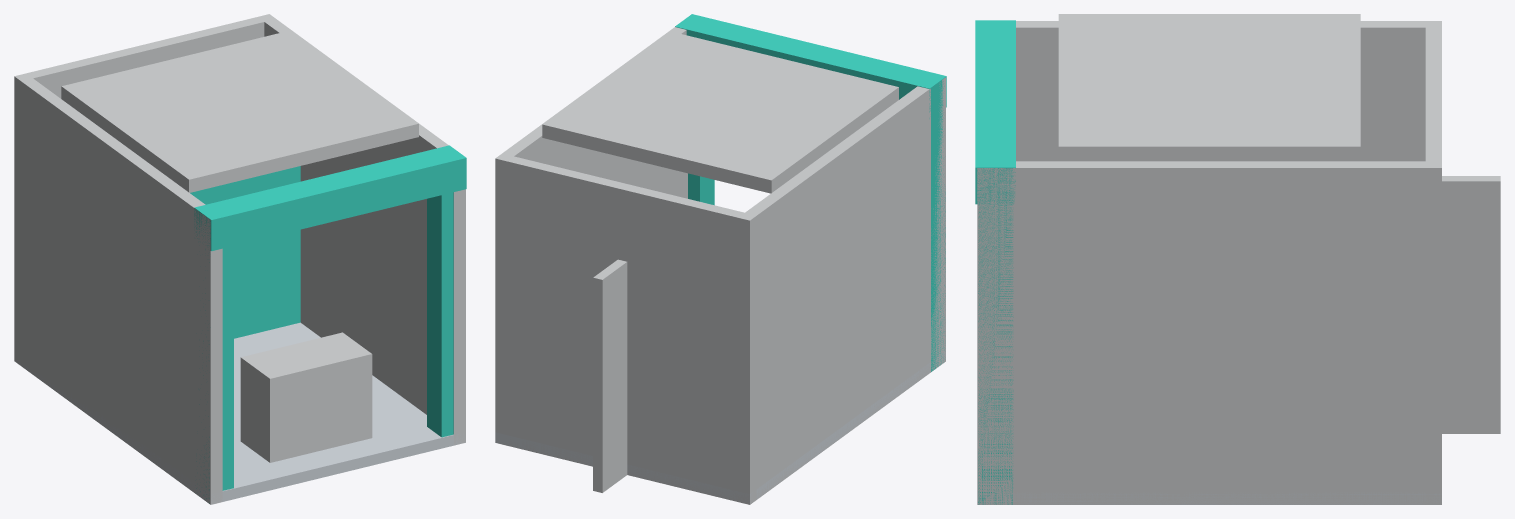
3 renders of one model, left to right at view 1: azimuth 30°, elevation 25°; view 2: azimuth 150°, elevation 25°; view 3: azimuth 270°, elevation 25°, orthographic. The views are drawn at different scales.
Visible parts, largest first — view 1: Exhibition Booth Concept; view 2: Exhibition Booth Concept; view 3: Exhibition Booth Concept.
Part boxes in pixels (bbox=[...]): Exhibition Booth Concept: bbox=[14, 14, 466, 504]; Exhibition Booth Concept: bbox=[495, 14, 946, 504]; Exhibition Booth Concept: bbox=[975, 14, 1500, 504].
Size of the model in its own units: 3 by 3.34 by 4.52.
